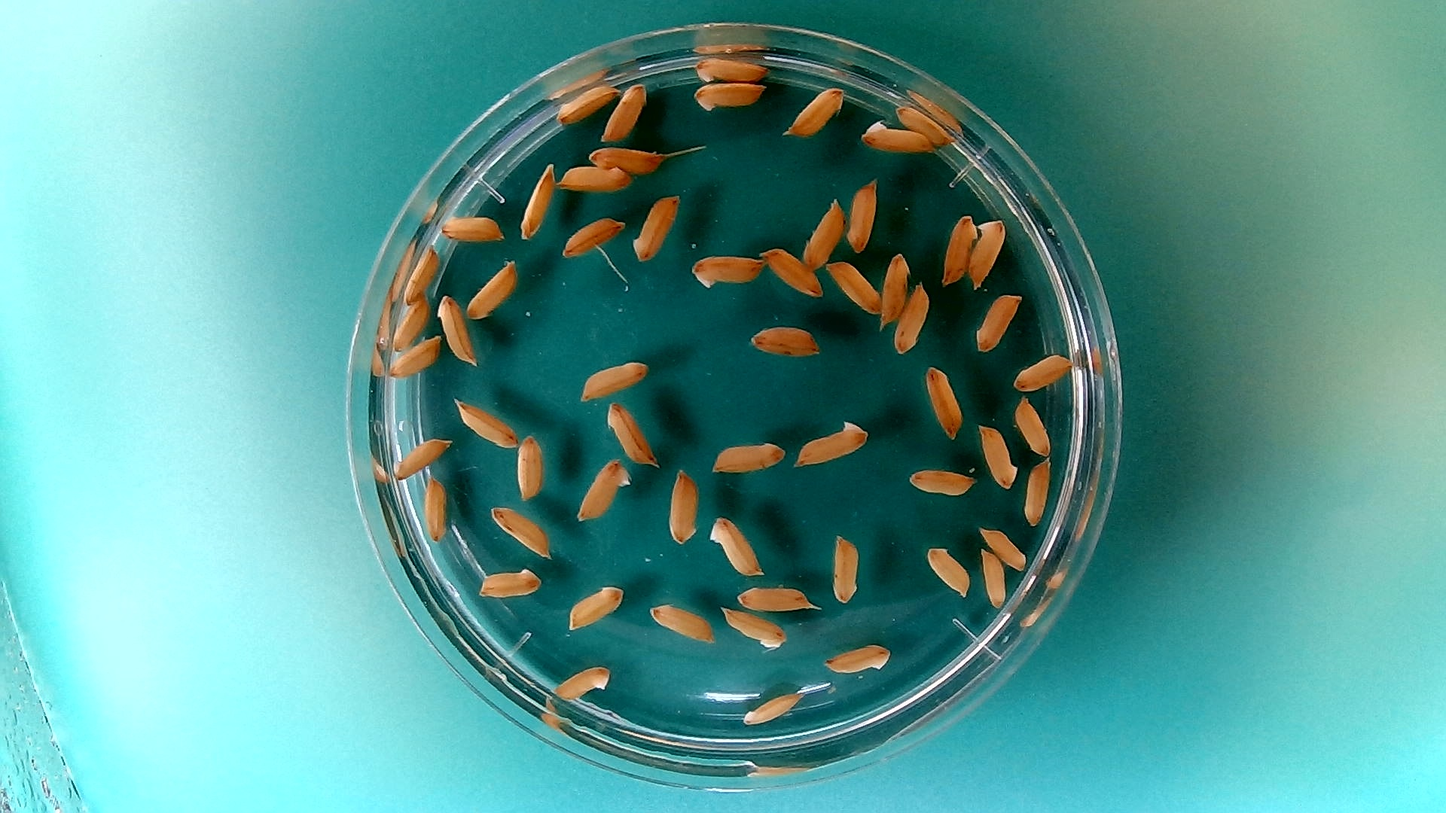no: (792, 416, 870, 469), (580, 148, 714, 178), (572, 456, 632, 522), (449, 394, 520, 449), (487, 502, 554, 560), (462, 254, 520, 321), (630, 190, 682, 264), (706, 513, 766, 577), (604, 397, 657, 467), (783, 82, 847, 139), (577, 355, 651, 403), (823, 257, 882, 317), (760, 244, 825, 298), (517, 157, 558, 242), (800, 195, 846, 269), (923, 362, 966, 441), (563, 580, 627, 632), (599, 78, 649, 144), (435, 291, 477, 369), (552, 80, 620, 126), (719, 604, 787, 650), (390, 430, 453, 479), (559, 214, 626, 260), (688, 251, 767, 290), (892, 101, 957, 148), (939, 210, 978, 288), (892, 280, 932, 355), (967, 215, 1008, 288), (973, 291, 1022, 352), (646, 601, 715, 644), (857, 117, 933, 155), (709, 437, 787, 474), (978, 420, 1019, 490), (843, 176, 879, 255), (666, 464, 700, 547), (747, 321, 823, 358), (387, 330, 444, 379), (878, 248, 912, 330), (389, 289, 432, 353), (1011, 349, 1075, 392), (976, 522, 1030, 571), (400, 242, 442, 304), (924, 544, 972, 598), (474, 564, 544, 601), (1011, 393, 1051, 457), (734, 581, 815, 612), (691, 80, 767, 113), (551, 661, 612, 702), (822, 640, 893, 675), (691, 53, 770, 84), (514, 430, 548, 502), (740, 688, 802, 727), (437, 209, 506, 244), (557, 161, 632, 193), (830, 530, 862, 604), (905, 465, 978, 497), (419, 469, 449, 544), (1022, 456, 1052, 528), (979, 546, 1008, 610)
